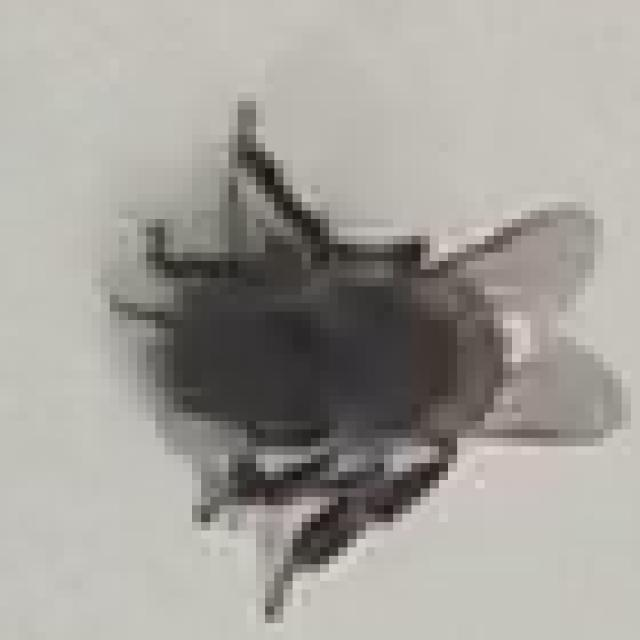honeybee: (99, 144, 602, 532)
